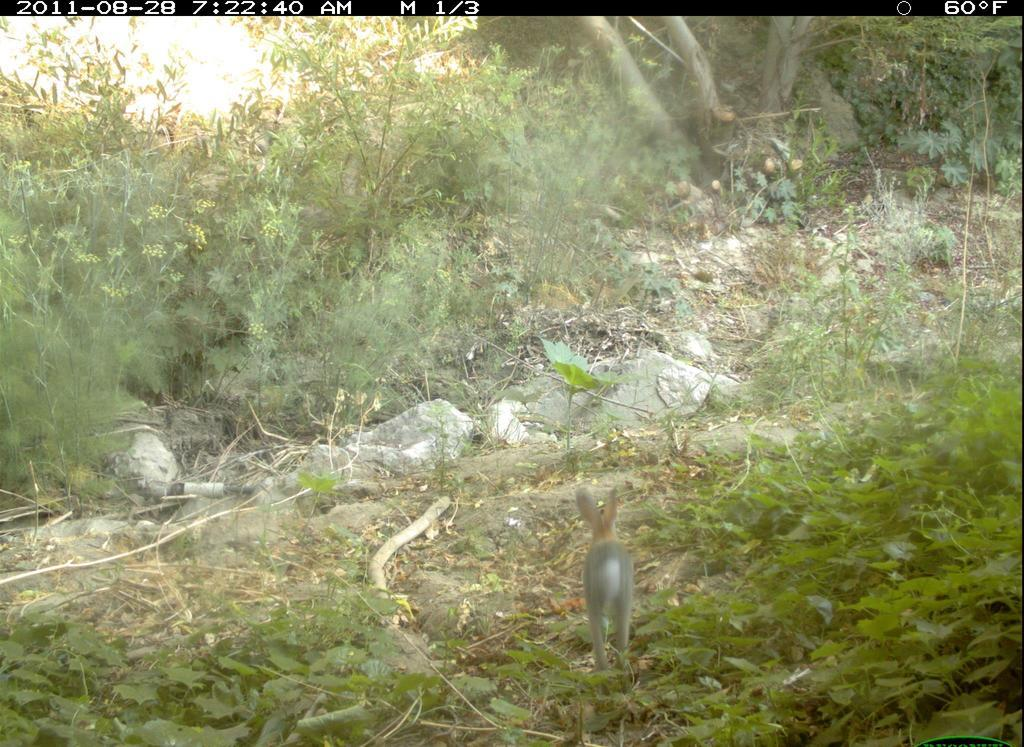rabbit: (574, 478, 644, 678)
